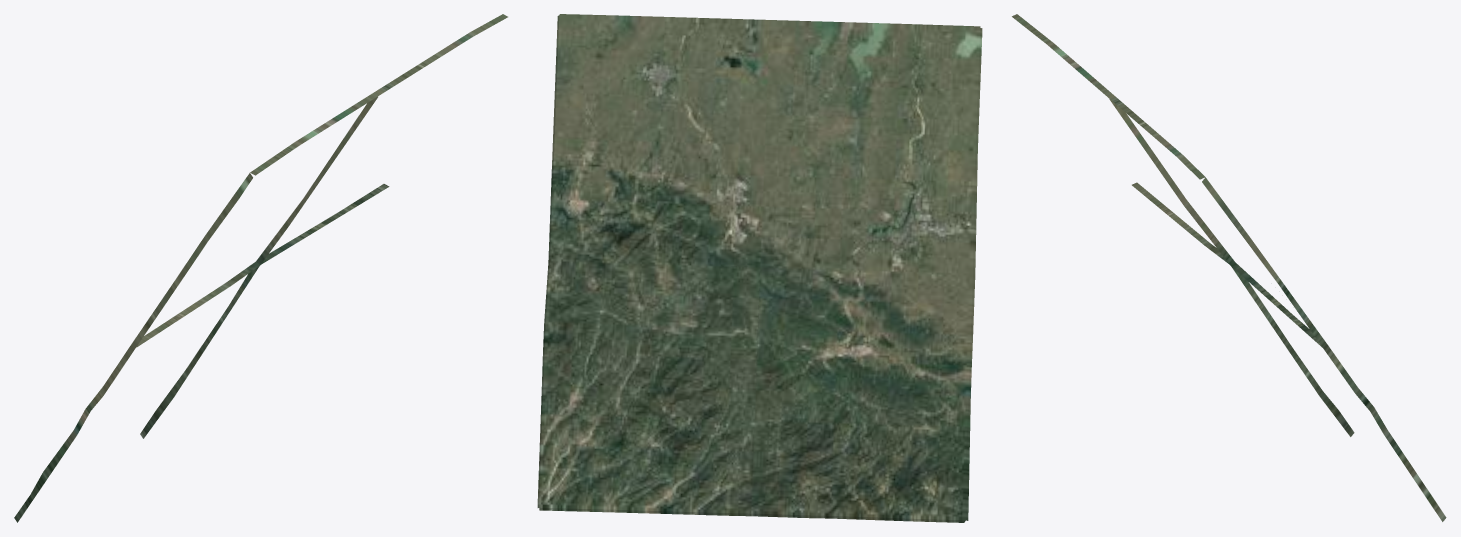
3 renders of one model, left to right at view 1: azimuth 30°, elevation 25°; view 2: azimuth 150°, elevation 25°; view 3: azimuth 270°, elevation 25°, orthographic. The views are drawn at different scales.
Bounding box in the file's own units: 158403 × 134968 × 134817.
1 material, 1 textured.
